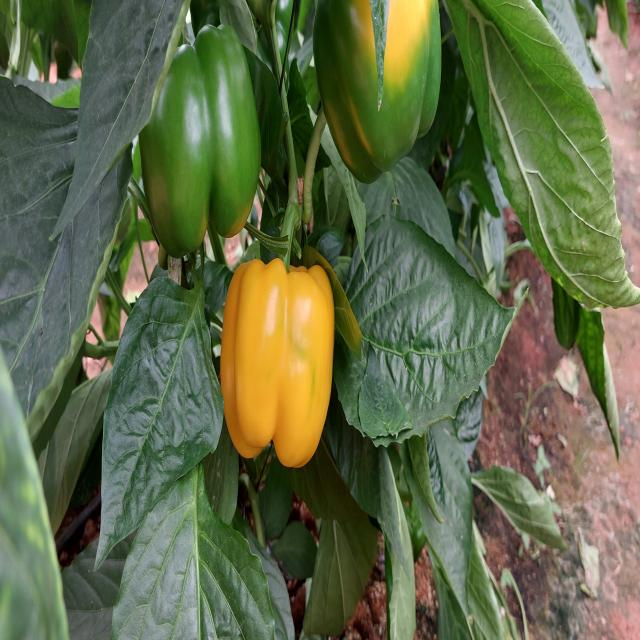Green--Not-ready-to-harvest: (138, 37, 270, 241)
GreenishYellow--Can-be-Harvested: (317, 10, 452, 176)
Yellow-Ready-to-Harvest: (217, 260, 346, 478)
